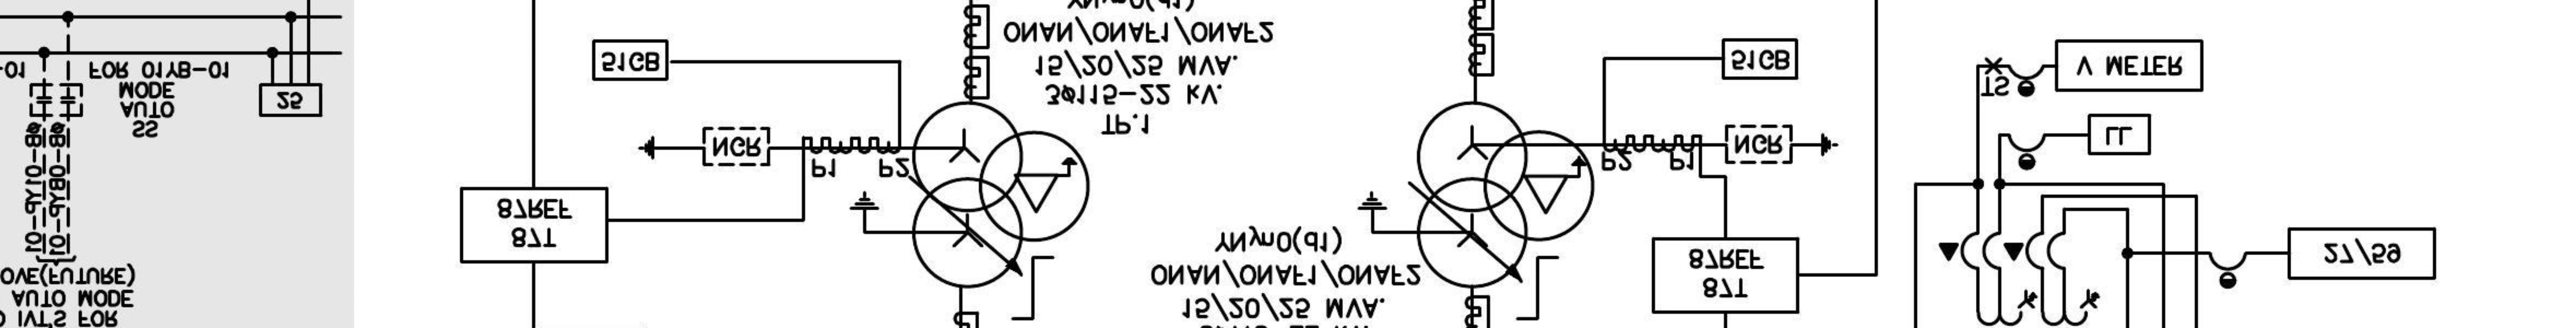11522_tx_ynyn0d1: (1415, 100, 1596, 289), (911, 100, 1091, 289)
LL: (2087, 112, 2152, 156)
NGR_future: (638, 126, 771, 167), (1724, 124, 1839, 164)
v_m_digital: (2054, 38, 2205, 93)
